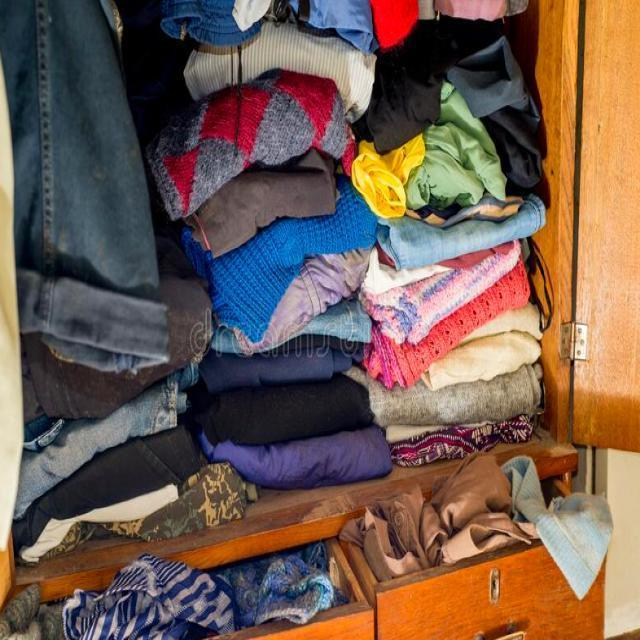clothes: (28, 51, 536, 438)
